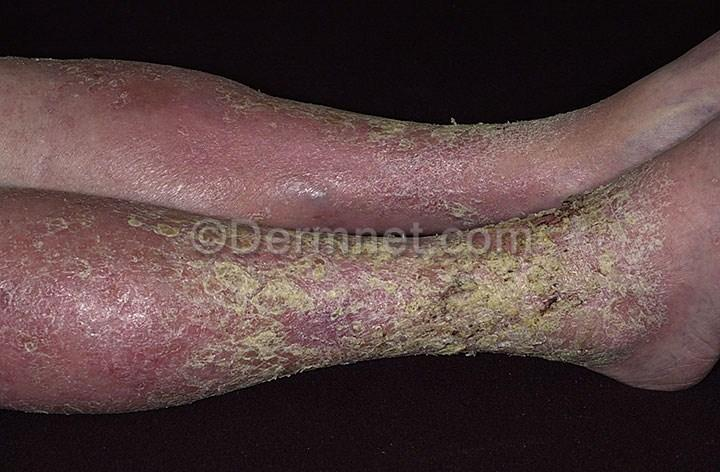Eczema: (104, 287, 240, 399), (0, 291, 115, 415), (0, 198, 125, 293), (244, 238, 361, 326), (120, 211, 244, 291), (592, 169, 685, 272), (234, 311, 399, 362), (513, 212, 599, 304), (525, 282, 614, 368), (355, 237, 433, 328), (611, 272, 693, 358), (442, 237, 518, 325), (54, 121, 144, 195), (375, 123, 454, 195), (456, 126, 540, 192), (50, 59, 137, 122), (216, 89, 299, 152), (140, 68, 218, 133), (543, 110, 609, 180), (226, 151, 303, 211), (300, 176, 377, 234), (303, 109, 367, 178), (146, 135, 213, 192), (406, 323, 518, 357), (383, 187, 448, 234), (460, 190, 510, 237), (510, 182, 568, 211)
